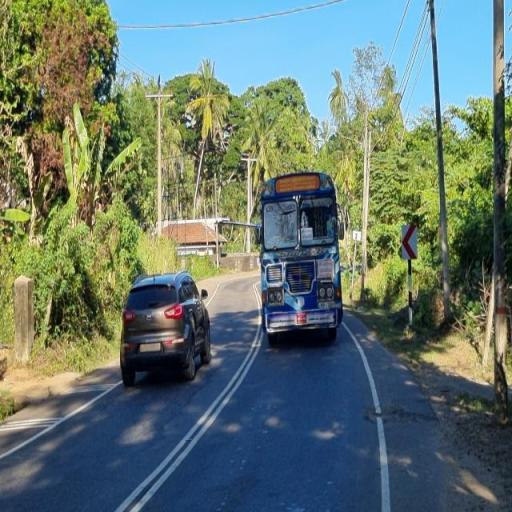double_white_line: (111, 282, 265, 511)
